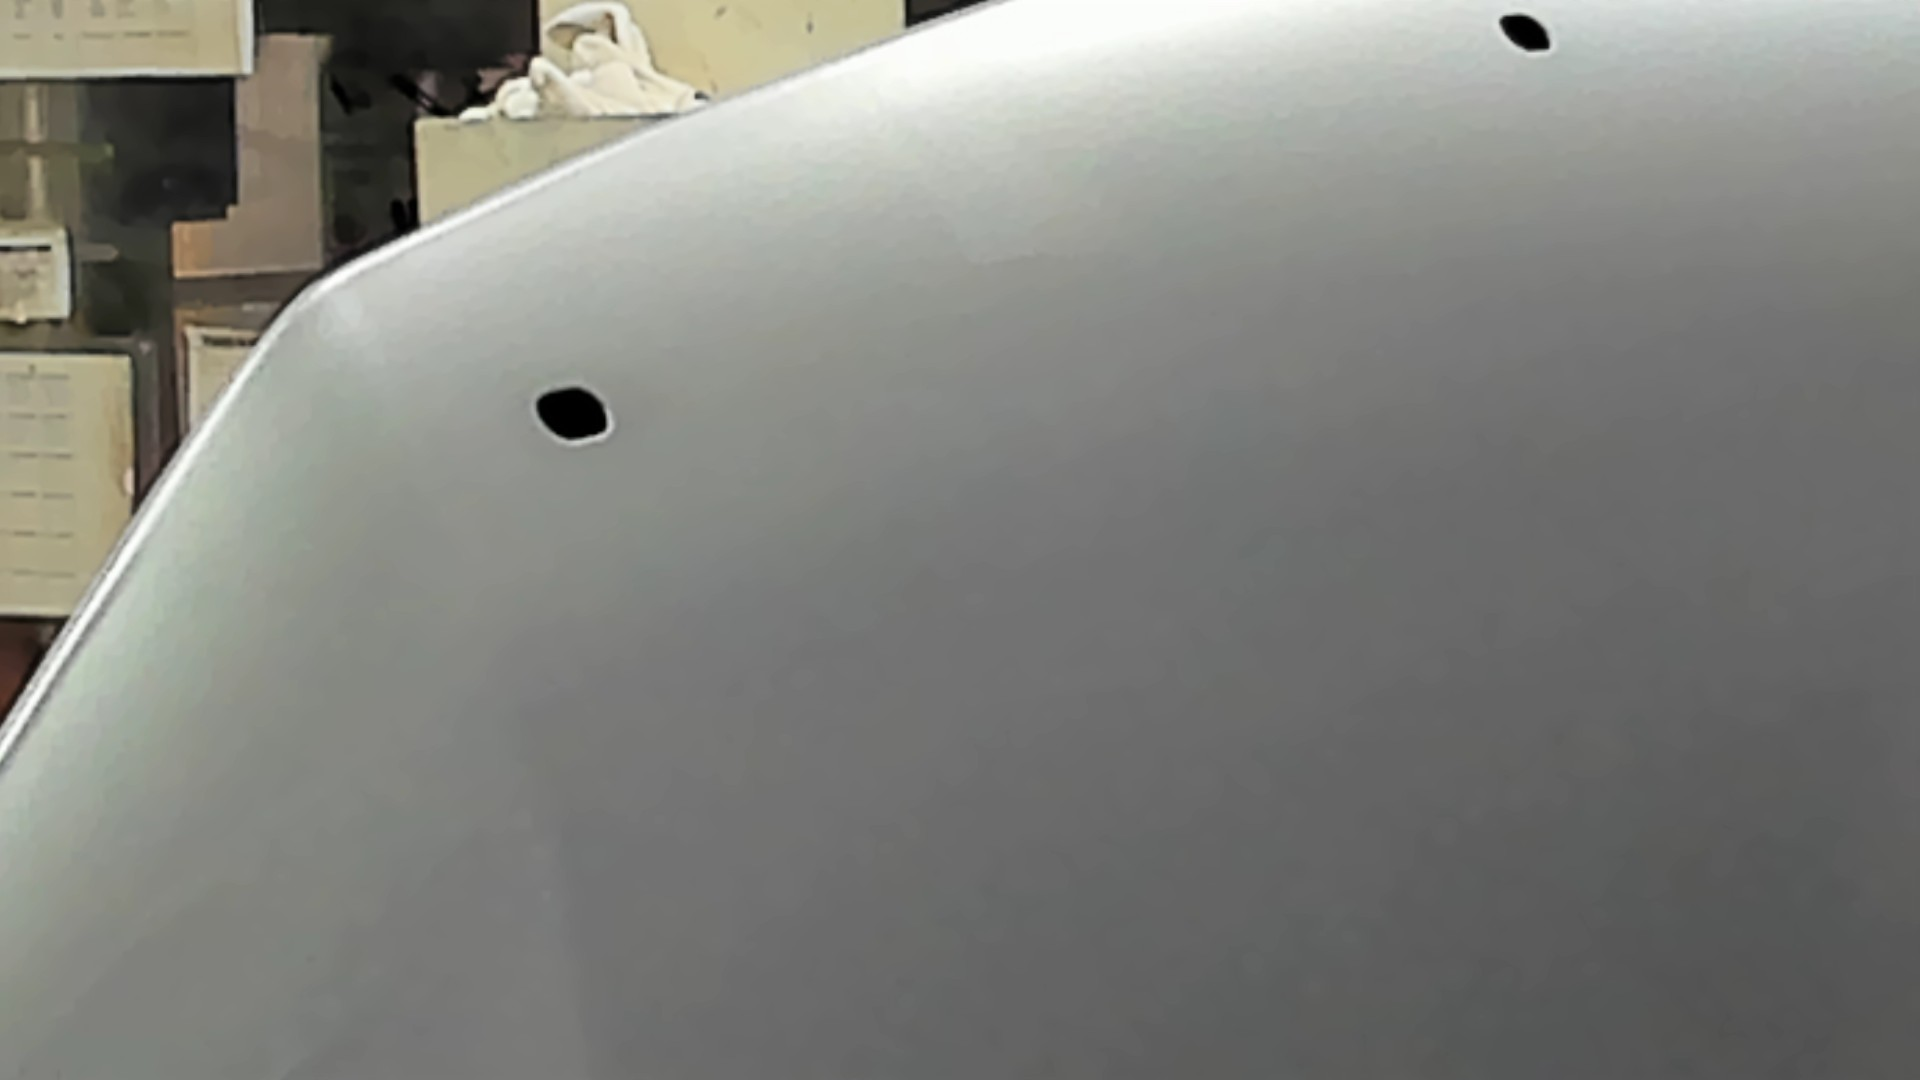amorfo: (534, 378, 616, 451), (1495, 1, 1563, 65)
